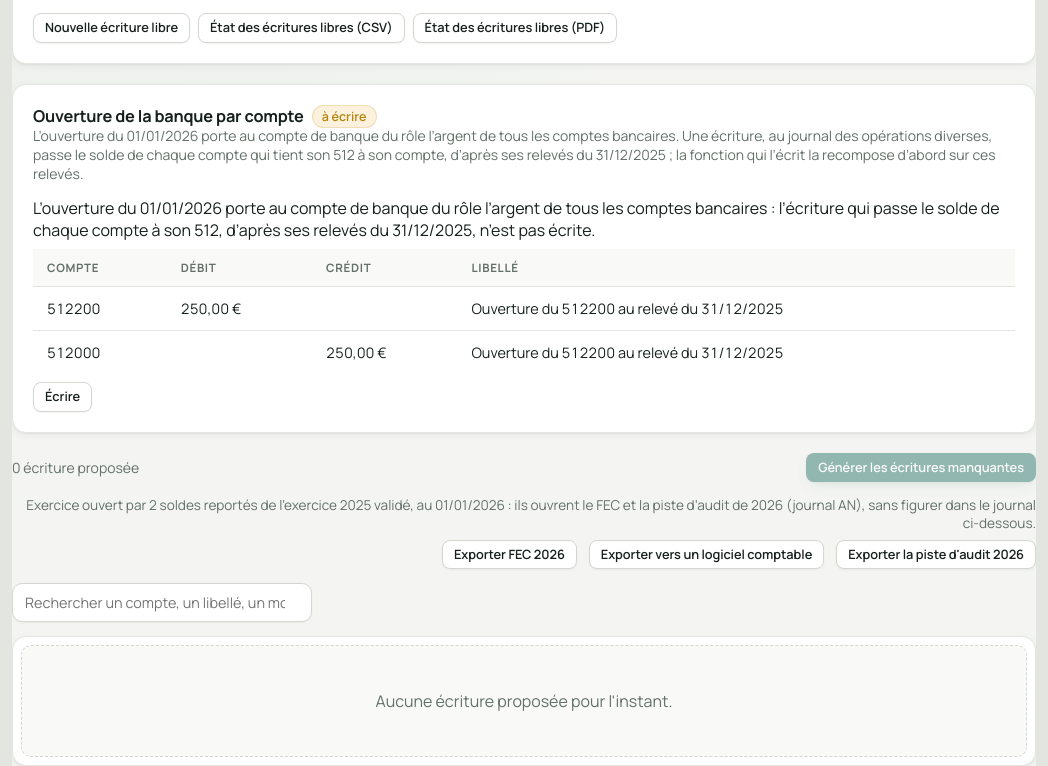
Écrire : la fonction seule, sur un clic confirmé, sous un verrou relâché après la relecture › la confirmation nomme le compte et son montant ; la fonction reçoit la composition ; la carte devient « à jour »
(page scrolled)
Click the button "Écrire" at (63, 397), box [33,382,92,412]
(page scrolled)
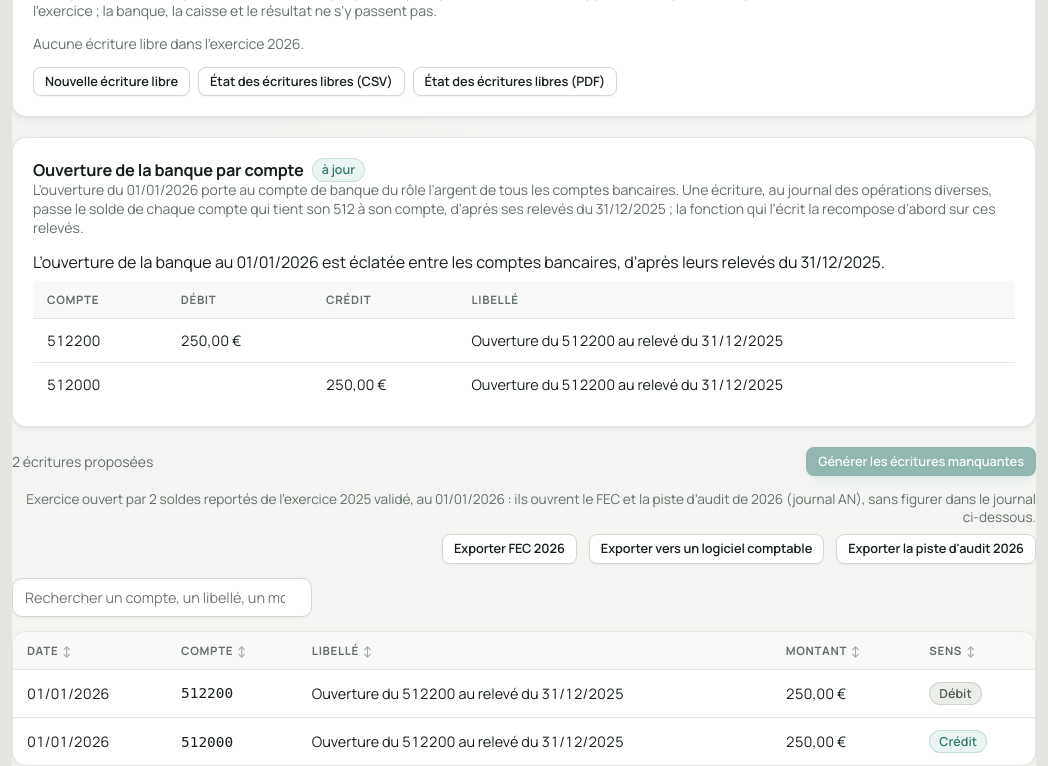
Check: the text "à jour" is shown, box [312,158,365,182]
